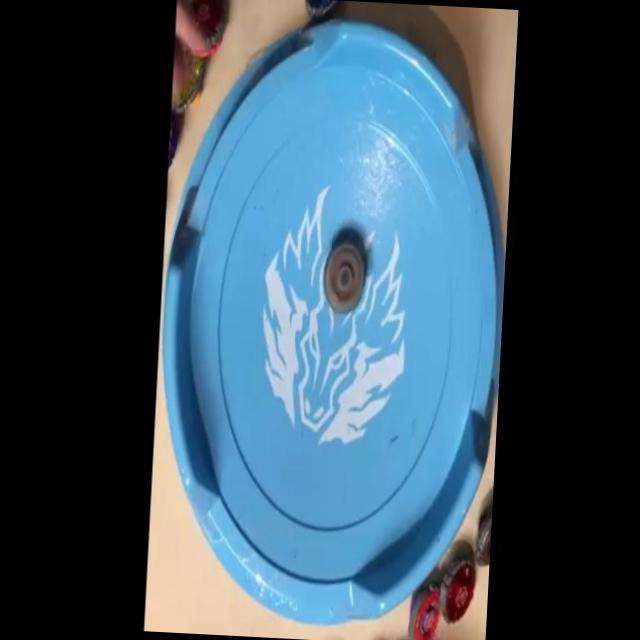Beyblade: (323, 242, 366, 314), (439, 556, 477, 624), (181, 0, 223, 59), (173, 55, 204, 114), (406, 587, 440, 640)
